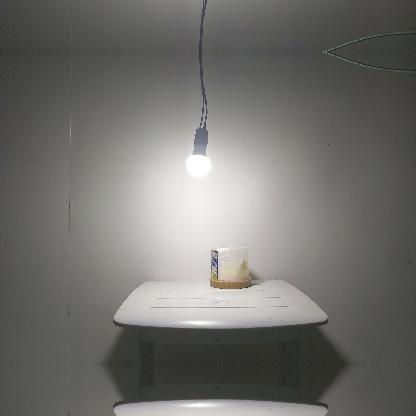Lady-s-Choice: (210, 244, 250, 288)
